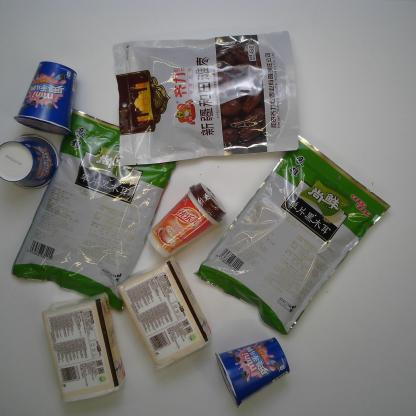Dessert: (211, 336, 291, 408), (14, 58, 78, 137), (1, 131, 60, 191)
Dried Food: (192, 134, 392, 338), (7, 109, 182, 313), (110, 29, 301, 168)
Instant Drink: (146, 178, 226, 260)
Tissue: (115, 254, 213, 374), (40, 288, 128, 406)
